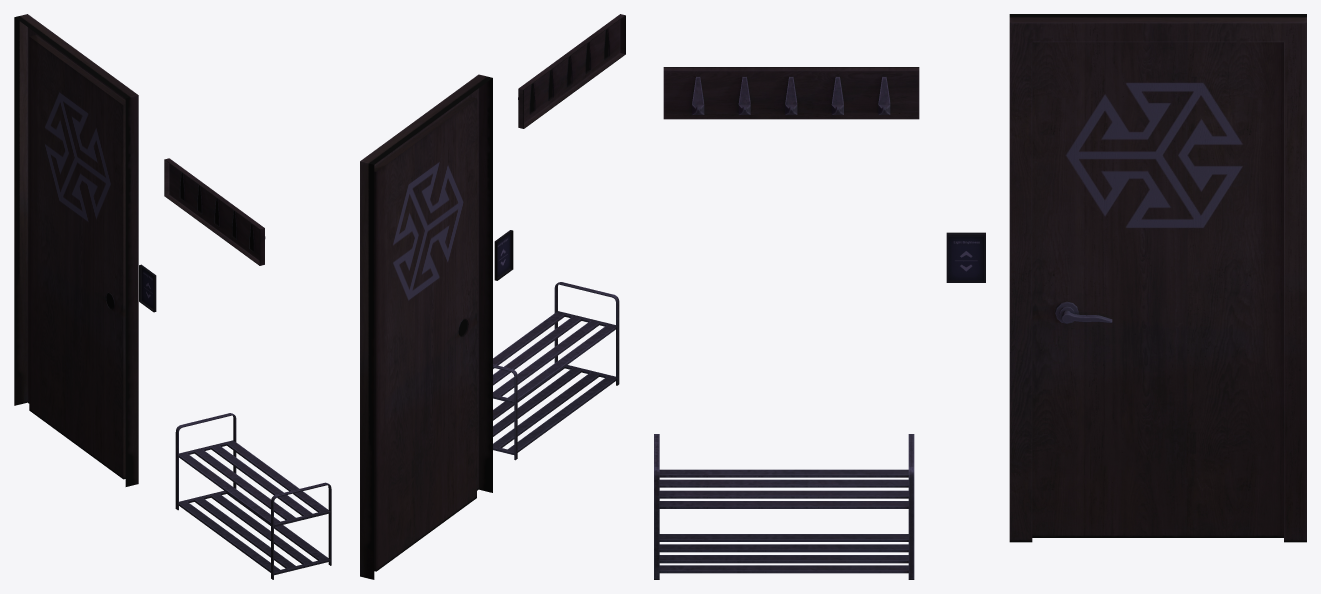
Rendered from Door.obj.
The picture shows the model from 3 angles, left to right: view 1: azimuth 30°, elevation 25°; view 2: azimuth 150°, elevation 25°; view 3: azimuth 270°, elevation 25°; orthographic projection. The views are drawn at different scales.
Parts seen in each view (by area): view 1: Object_10; view 2: Object_10; view 3: Object_10.
Part boxes in pixels (x1,y1,x2,y2): Object_10: (14, 14, 331, 579); Object_10: (360, 14, 625, 579); Object_10: (654, 14, 1306, 579).
Bounding box in the file's own units: 0.4397 × 2.23 × 2.54.
Materials: 1 (1 with a texture image).
